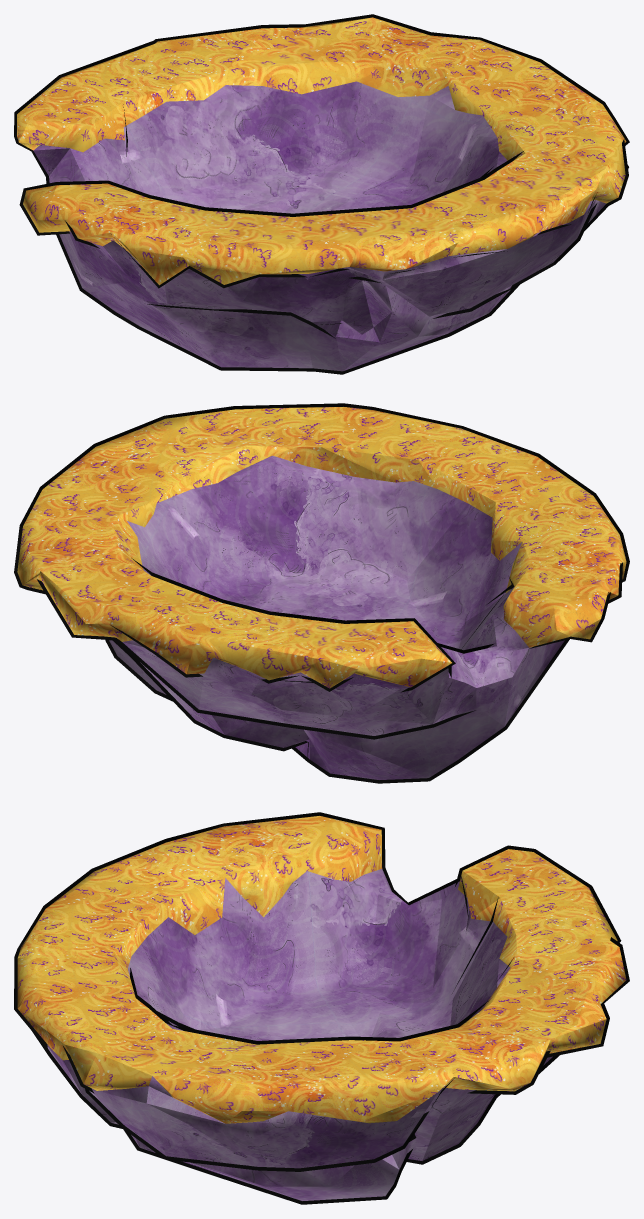
File: s0_Floating_Island_02__1__01.glb
3 renders of one model, top to bottom at view 1: azimuth 30°, elevation 25°; view 2: azimuth 150°, elevation 25°; view 3: azimuth 270°, elevation 25°, orthographic. The views are drawn at different scales.
Visible parts, largest first — view 1: node_Floating_Island_02 (1), node_Floating_Island_02_Outline; view 2: node_Floating_Island_02 (1), node_Floating_Island_02_Outline; view 3: node_Floating_Island_02 (1), node_Floating_Island_02_Outline.
Boxes of the visible parts, box(x1,y1,x2,y2) form: node_Floating_Island_02 (1): box(17, 17, 626, 371); node_Floating_Island_02_Outline: box(14, 14, 629, 374); node_Floating_Island_02 (1): box(17, 407, 626, 779); node_Floating_Island_02_Outline: box(14, 403, 629, 783); node_Floating_Island_02 (1): box(17, 816, 626, 1200); node_Floating_Island_02_Outline: box(14, 812, 629, 1204).
Size of what is drawn, in the model's own units: 17.93 by 6.44 by 16.45.
3 materials, 2 textured.
